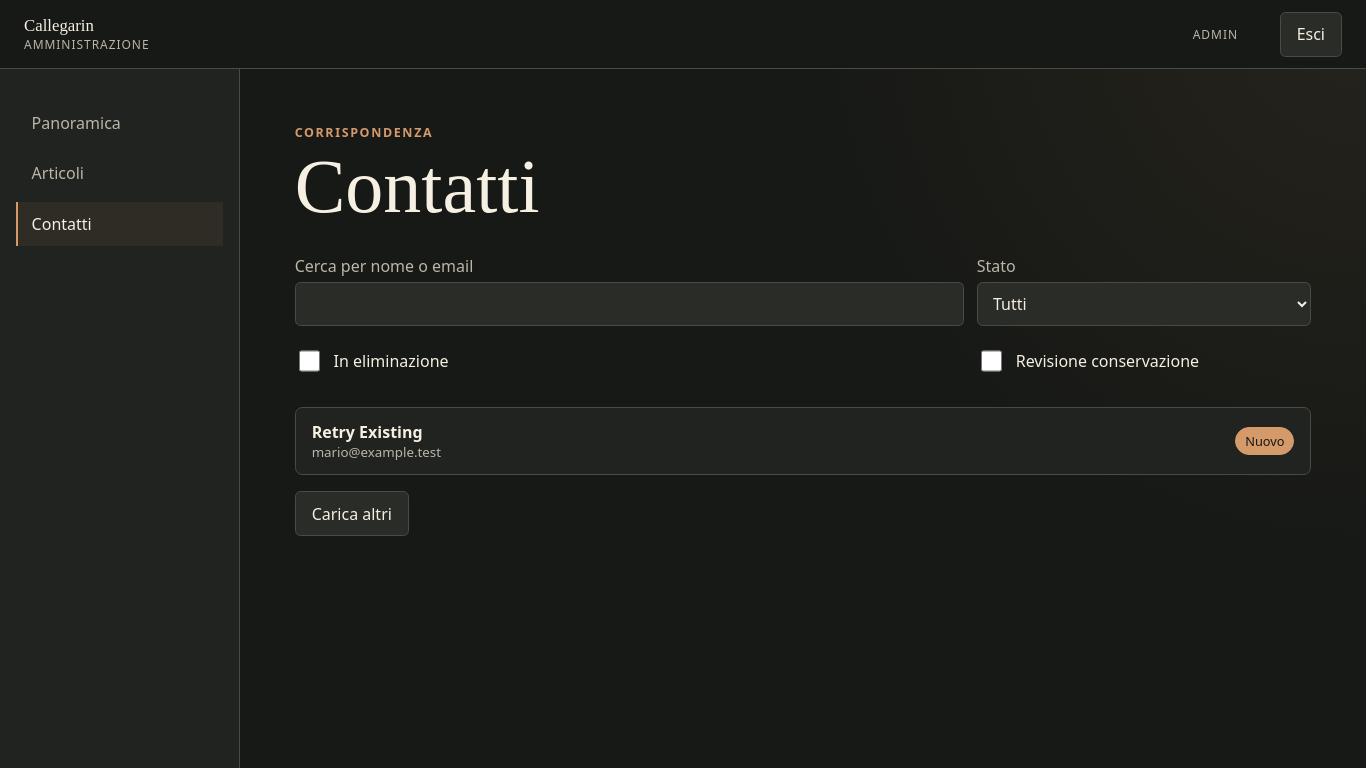
Scenario: admin shell › preserves loaded contacts and a safe retry cursor after load-more failure
Expected: the text "Retry Existing" is shown, [312, 421, 441, 443]
Step 1. Click the button "Carica altri" → click(352, 514), box [295, 491, 409, 536]
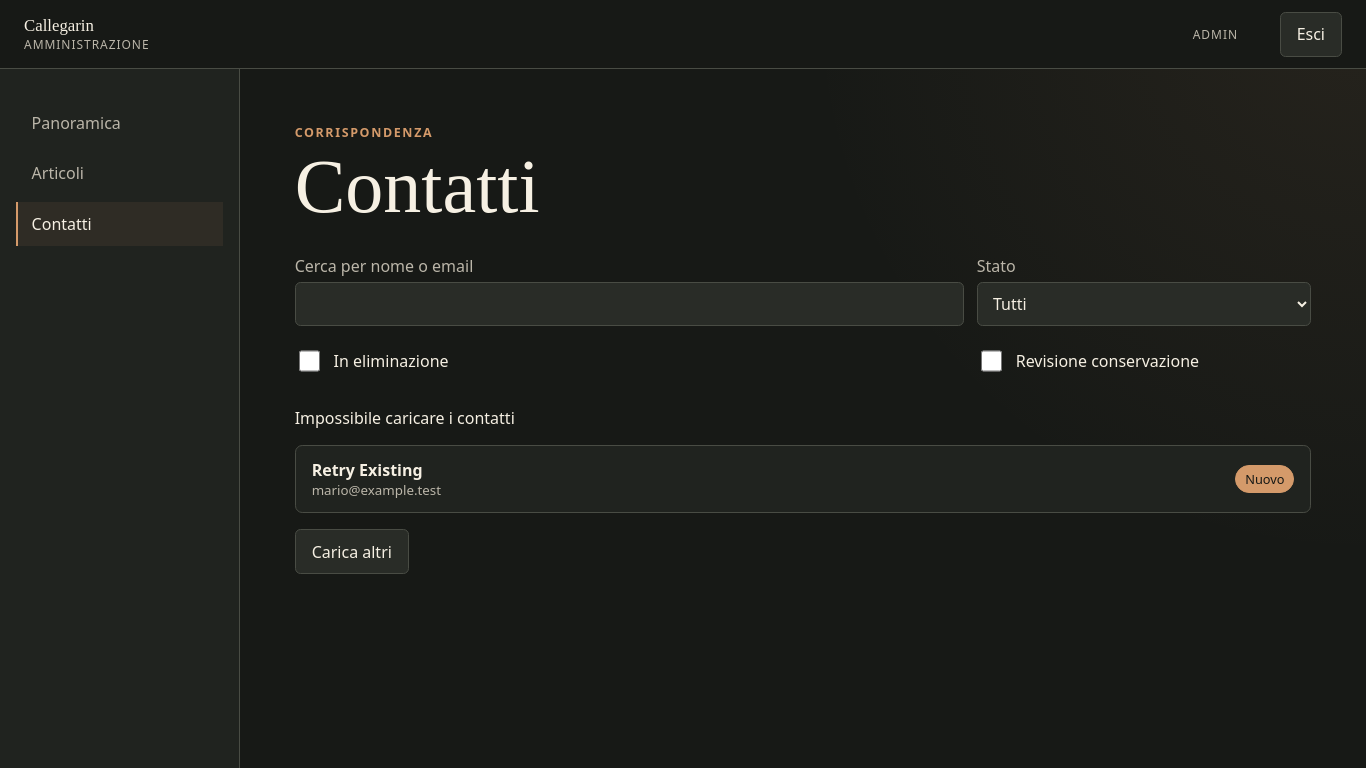
Expected: the text "Retry Existing" is shown, [312, 459, 441, 481]
Expected: the message reads "Impossibile caricare i contatti", [295, 407, 515, 429]
Step 2. Click the button "Carica altri" → click(352, 552), box [295, 529, 409, 574]
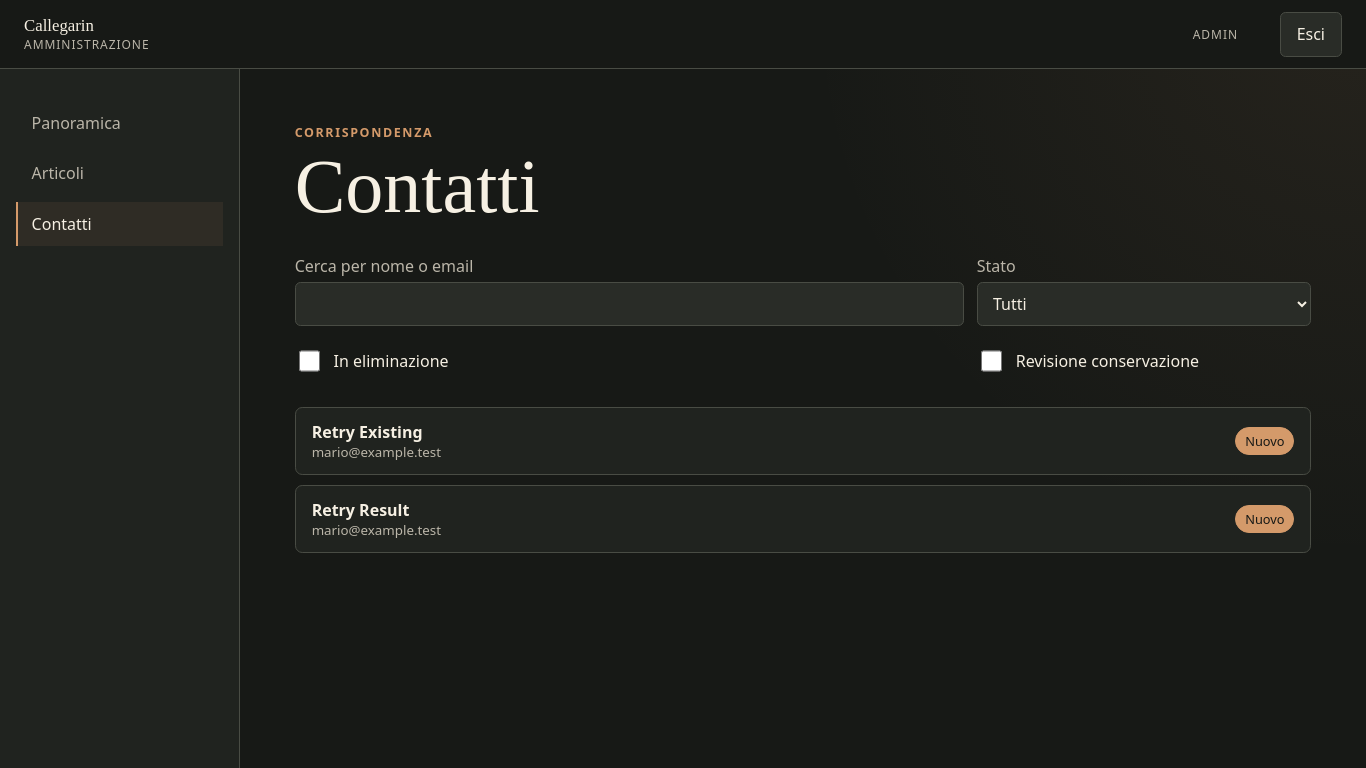
Expected: the text "Retry Existing" is shown, [312, 421, 441, 443]
Expected: the text "Retry Result" is shown, [312, 499, 409, 521]
Expected: the message "Impossibile caricare i contatti" is gone
